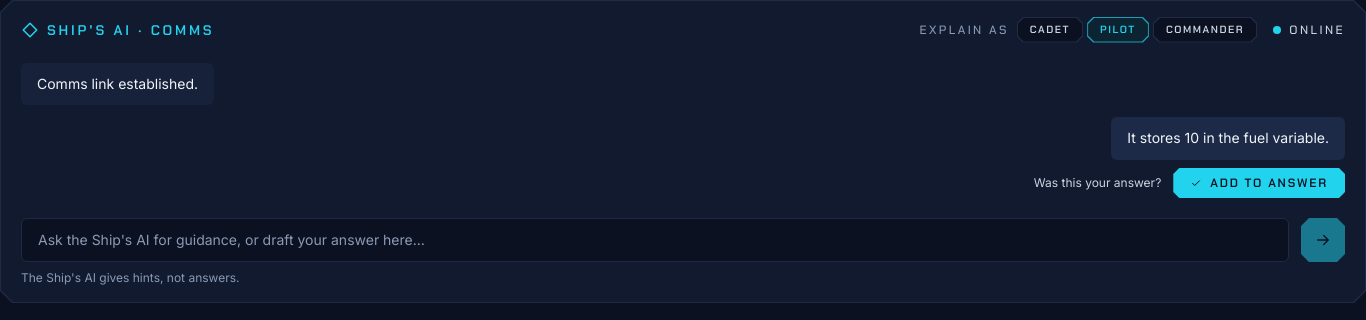
it: ShipsAiPanel › answering from the chat › offers to add the pilot’s latest message to their answer, once
Click the button "Add to answer". click: (1259, 183)
box: [1173,168,1345,198]
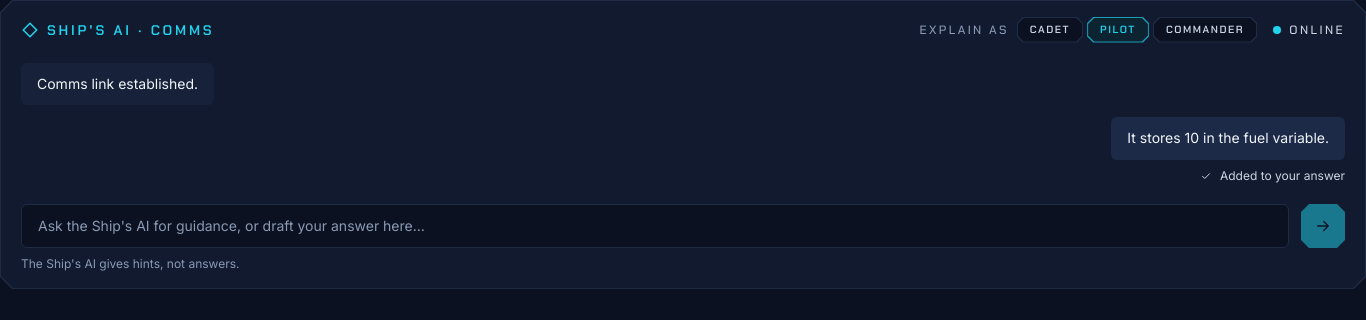
expect the button "Add to answer" is gone: met
expect the text "Added to your answer" is shown: met, box [1200,168,1345,184]
